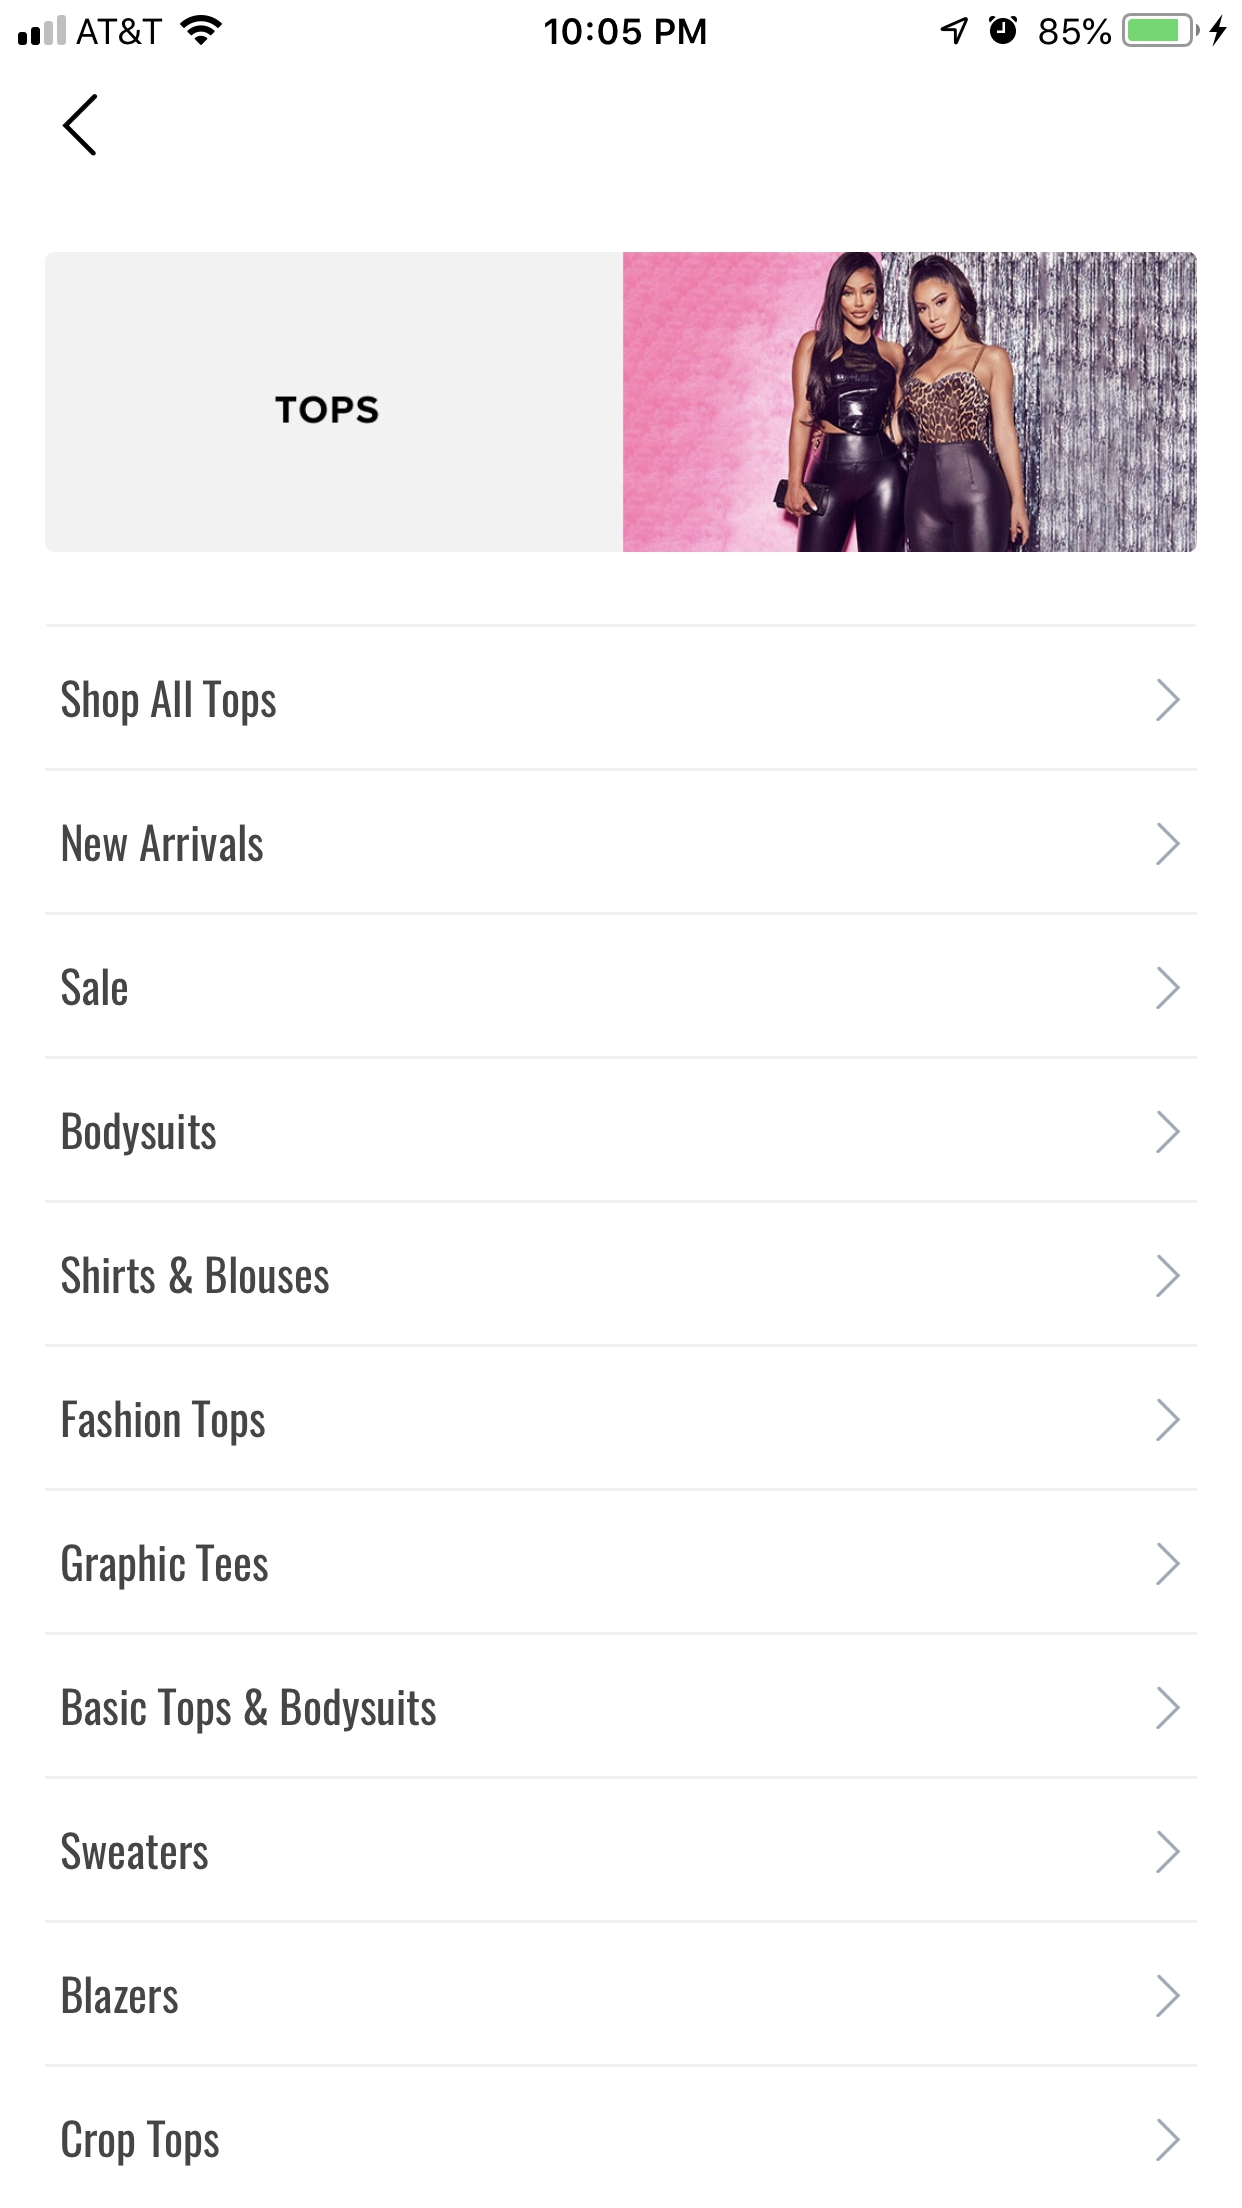Icon: (62, 94, 99, 158), (1156, 1974, 1181, 2018), (1156, 1830, 1181, 1874), (1156, 1686, 1181, 1730), (1156, 1542, 1181, 1586), (1156, 1254, 1181, 1298), (1156, 1110, 1181, 1154), (1156, 966, 1181, 1010), (1156, 822, 1181, 866), (1156, 678, 1181, 722), (1156, 2119, 1181, 2161), (1156, 1400, 1181, 1442)
Image: (623, 252, 1198, 554)
Text: (62, 1686, 437, 1735), (61, 1256, 331, 1295), (62, 679, 278, 726), (62, 1542, 270, 1591), (64, 1400, 267, 1447), (64, 823, 265, 863), (62, 2119, 221, 2167), (64, 1112, 218, 1157), (64, 1830, 209, 1870), (64, 1974, 180, 2015), (274, 396, 381, 426), (61, 968, 129, 1007)
UpperTaskBar: (2, 2, 1242, 49)
